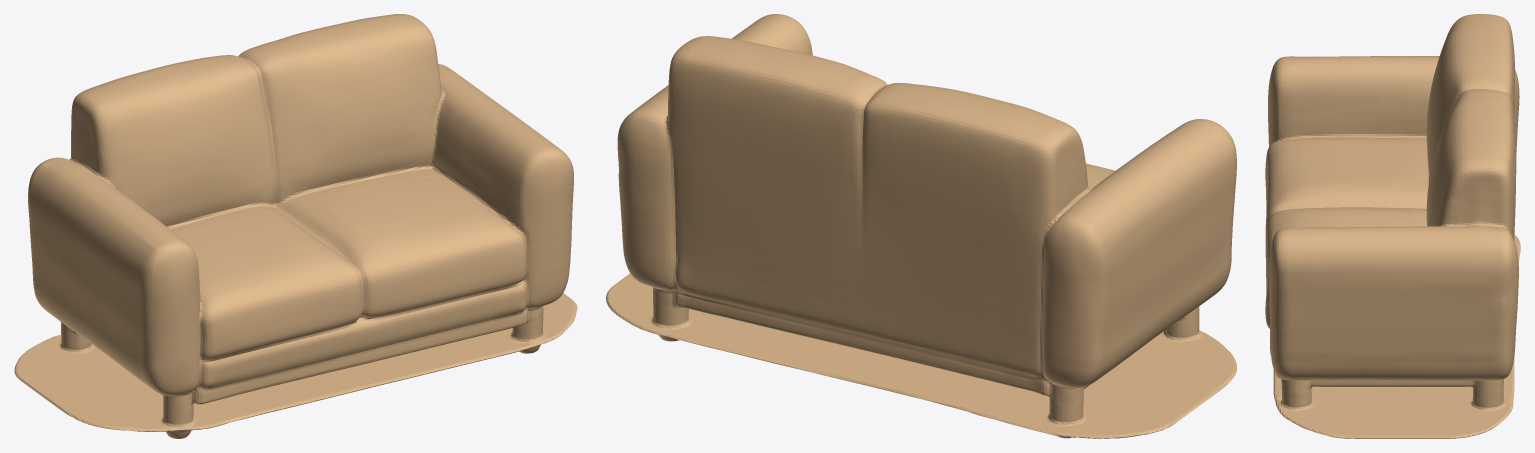
Rendered from 目标公寓_海蓝小沙发_Modly低清试件.fbx.
The picture shows the model from 3 angles, left to right: view 1: azimuth 30°, elevation 25°; view 2: azimuth 150°, elevation 25°; view 3: azimuth 270°, elevation 25°; orthographic projection. The views are drawn at different scales.
Parts seen in each view (by area): view 1: geometry_0; view 2: geometry_0; view 3: geometry_0.
Boxes of the visible parts, x1,y1,x2,y2 form: geometry_0: [14, 14, 577, 438]; geometry_0: [606, 14, 1236, 438]; geometry_0: [1265, 14, 1520, 438].
Bounding box in the file's own units: 200 × 103 × 94.28.
